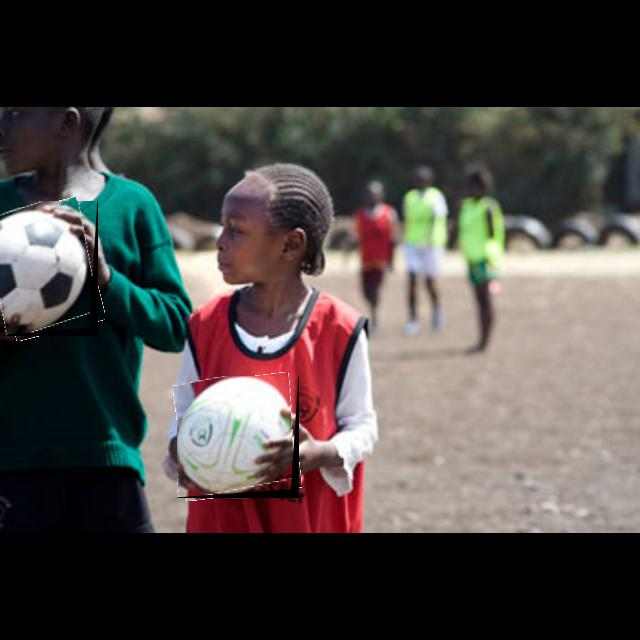Football: (177, 376, 299, 498), (0, 201, 98, 336)
